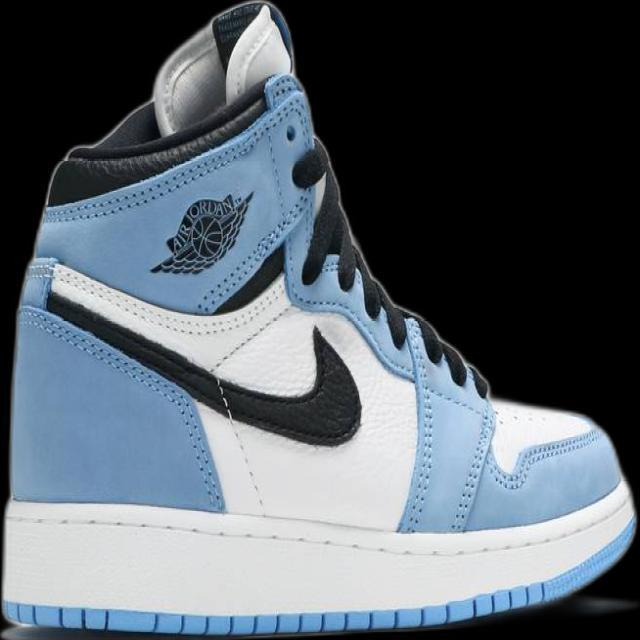J1_InsoleChar: (0, 0, 637, 638)
J1_ShoeLogo: (148, 189, 255, 276)
J1_StitchPattern: (1, 486, 636, 634), (35, 259, 363, 448), (287, 134, 491, 400), (3, 489, 635, 562), (20, 304, 226, 510), (42, 74, 310, 225), (1, 585, 551, 636), (19, 305, 194, 423), (211, 375, 270, 518), (488, 423, 603, 492)
